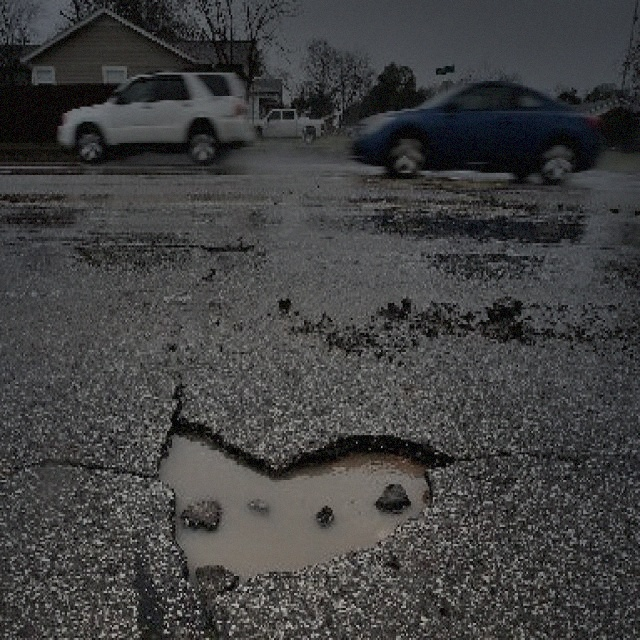pothole: (152, 416, 448, 587), (376, 207, 581, 245), (0, 188, 69, 205)
